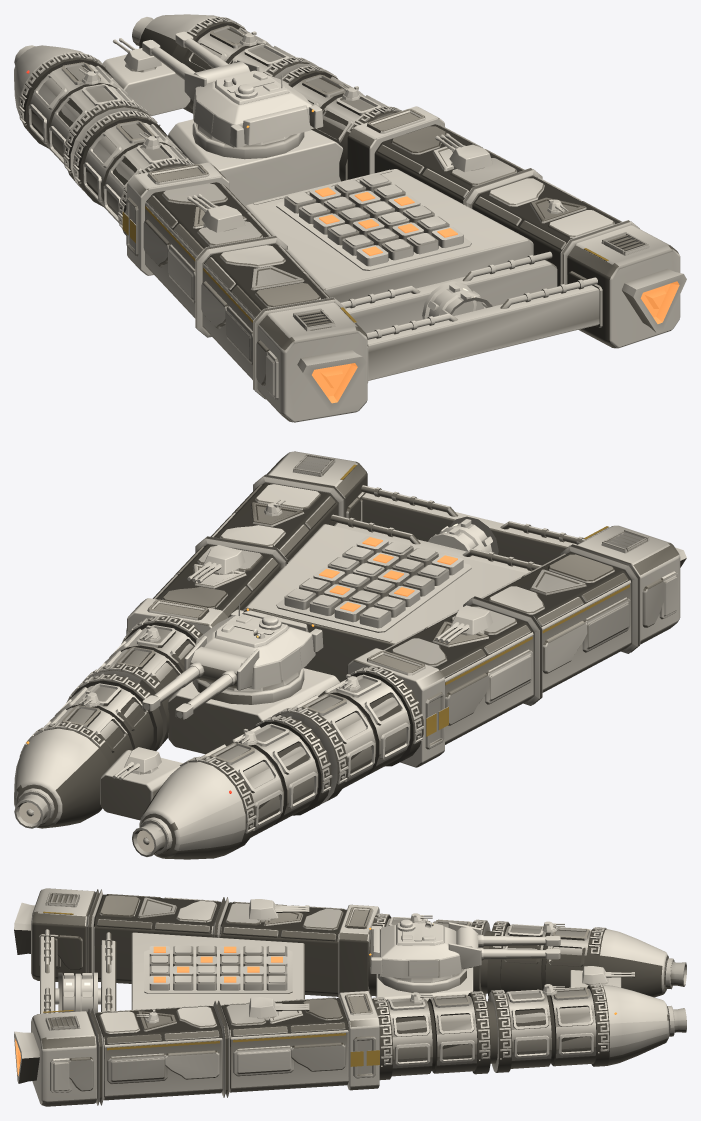
The model's file is plektor_sinho.glb.
The picture shows the model from 3 angles, top to bottom: view 1: azimuth 30°, elevation 25°; view 2: azimuth 150°, elevation 25°; view 3: azimuth 270°, elevation 25°; orthographic projection. The views are drawn at different scales.
Visible parts, largest first — view 1: hull, launcher_0, turret_0, engines, reactor, aux_1, aux_0, aux_2; view 2: hull, launcher_0, turret_0, engines, reactor, aux_0, aux_1, aux_2; view 3: hull, turret_0, launcher_0, engines, reactor, aux_0, aux_1, aux_2.
Boxes of the visible parts, x1,y1,x2,y2 form: hull: [14, 14, 680, 422]; launcher_0: [276, 174, 471, 270]; turret_0: [142, 31, 323, 147]; engines: [14, 17, 686, 411]; reactor: [422, 281, 492, 319]; aux_1: [435, 133, 492, 172]; aux_0: [187, 194, 245, 232]; aux_2: [113, 38, 161, 72]; hull: [14, 451, 680, 859]; launcher_0: [276, 535, 471, 632]; turret_0: [142, 602, 323, 719]; engines: [14, 547, 686, 856]; reactor: [428, 516, 498, 554]; aux_0: [435, 605, 492, 643]; aux_1: [187, 545, 244, 583]; aux_2: [113, 747, 161, 779]; hull: [31, 888, 669, 1106]; turret_0: [369, 919, 560, 982]; launcher_0: [144, 945, 292, 993]; engines: [14, 902, 686, 1083]; reactor: [55, 972, 100, 1013]; aux_0: [249, 899, 309, 922]; aux_1: [249, 997, 309, 1020]; aux_2: [582, 966, 634, 985].
Size of the model in its own units: 83.98 by 27.39 by 149.
Materials: 11 (4 with a texture image).
